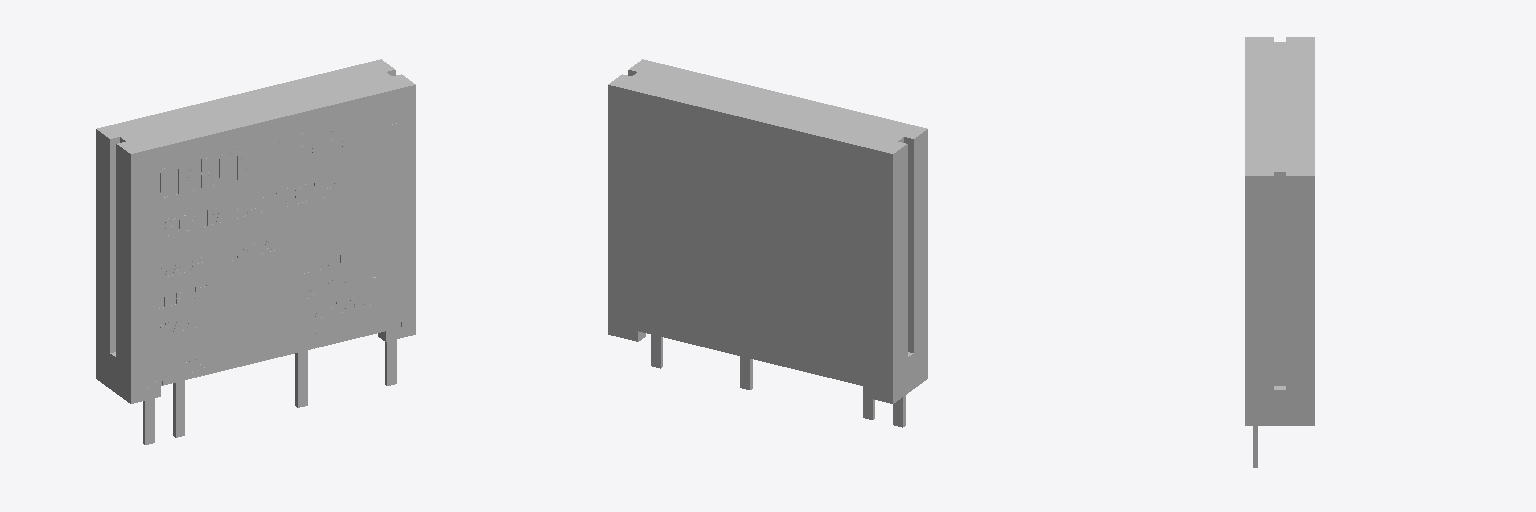
The model's file is Relay - G3MB-202P.obj.
3 renders of one model, left to right at view 1: azimuth 30°, elevation 25°; view 2: azimuth 150°, elevation 25°; view 3: azimuth 270°, elevation 25°, orthographic.
Visible parts, largest first — view 1: Solid1; view 2: Solid1; view 3: Solid1.
Part boxes in pixels (x1,y1,x2,y2): Solid1: (96, 59, 415, 444); Solid1: (608, 59, 927, 427); Solid1: (1245, 37, 1314, 467).
Size of the model in its own units: 24.05 by 24.05 by 5.08.